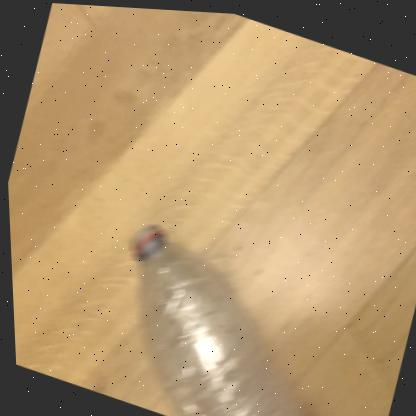Plastic: (130, 224, 304, 416)
